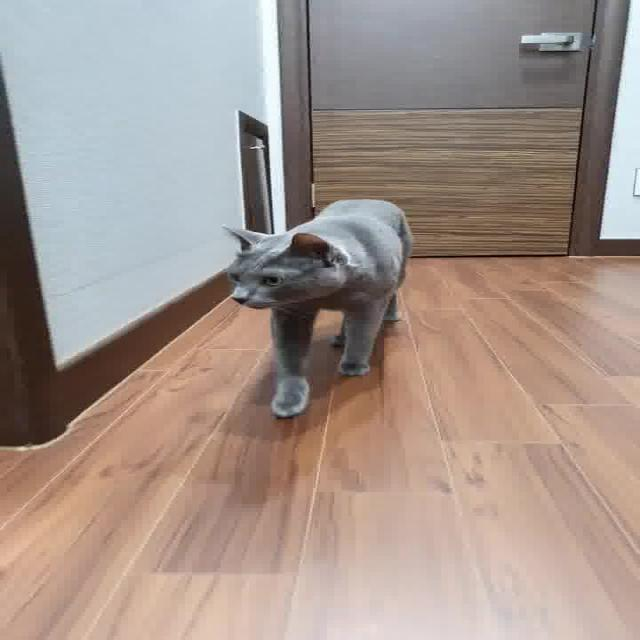cat: (183, 180, 480, 425)
